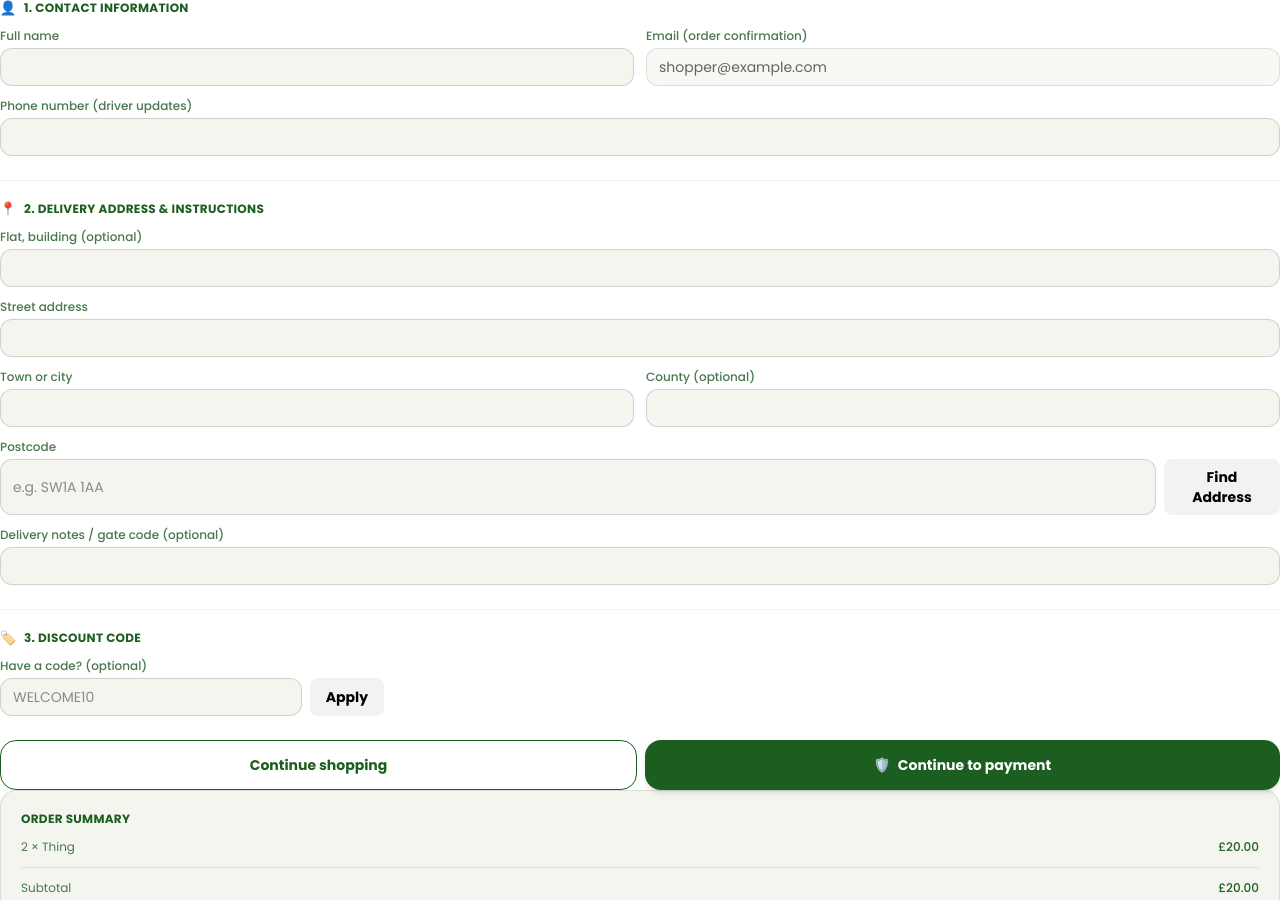
Apply (R8, R9, R11, R12) › applies an ok answer to the note, the summary row and both totals
Expected: the button "Apply" is shown, [310, 678, 384, 716]
Type "spec973a" into the field with id "discountCode".
click(151, 697); type("spec973a")  # box [0, 678, 302, 716]
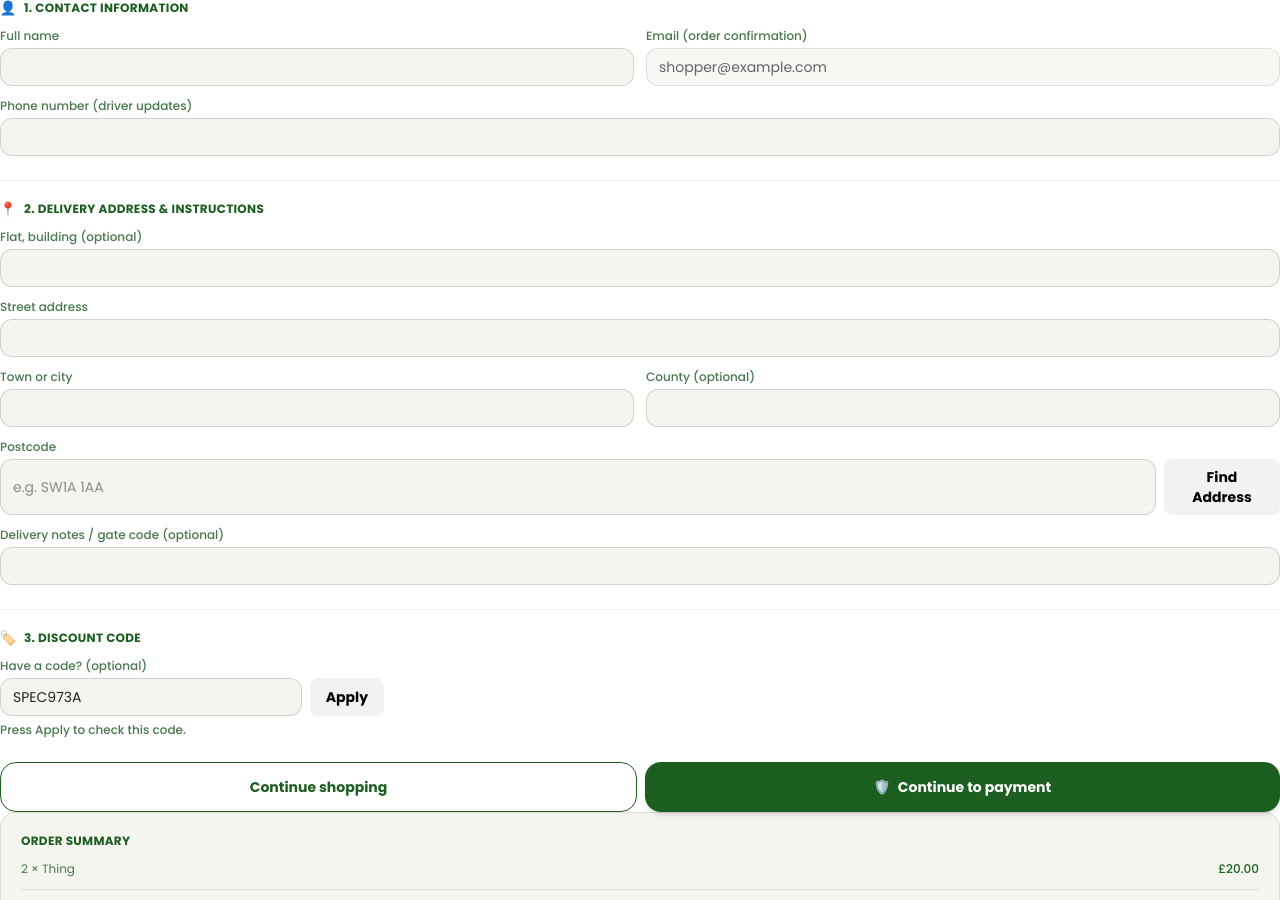
Click the button "Apply".
click(347, 697)  # box [310, 678, 384, 716]
(page scrolled)
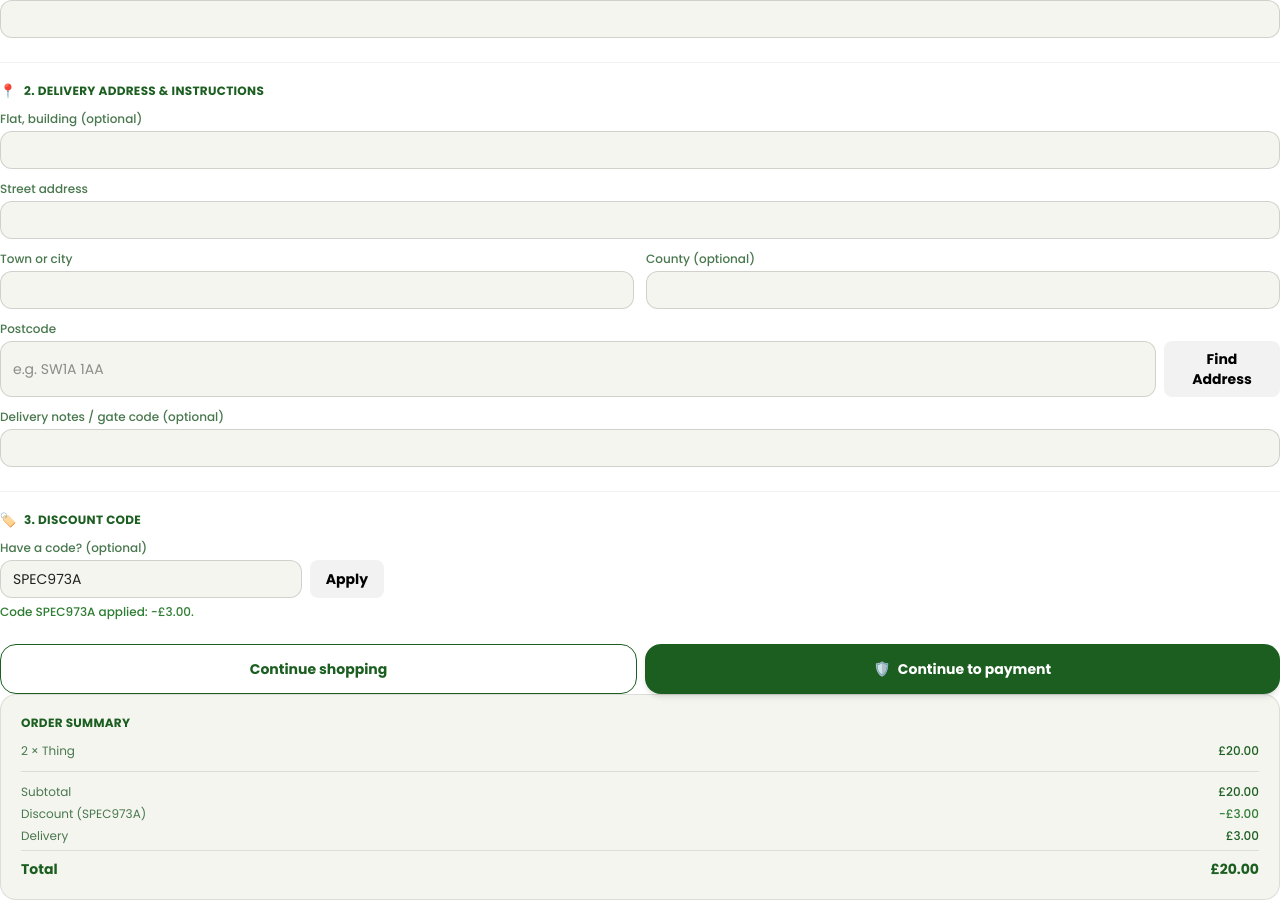
Expected: the text "Code SPEC973A applied: −£3.00." is shown, [0, 603, 194, 620]
Expected: the element that starts with "Order summary" shows "Discount (SPEC973A)", [0, 694, 1279, 899]
Expected: the element that starts with "Order summary" shows "−£3.00", [0, 694, 1279, 899]
